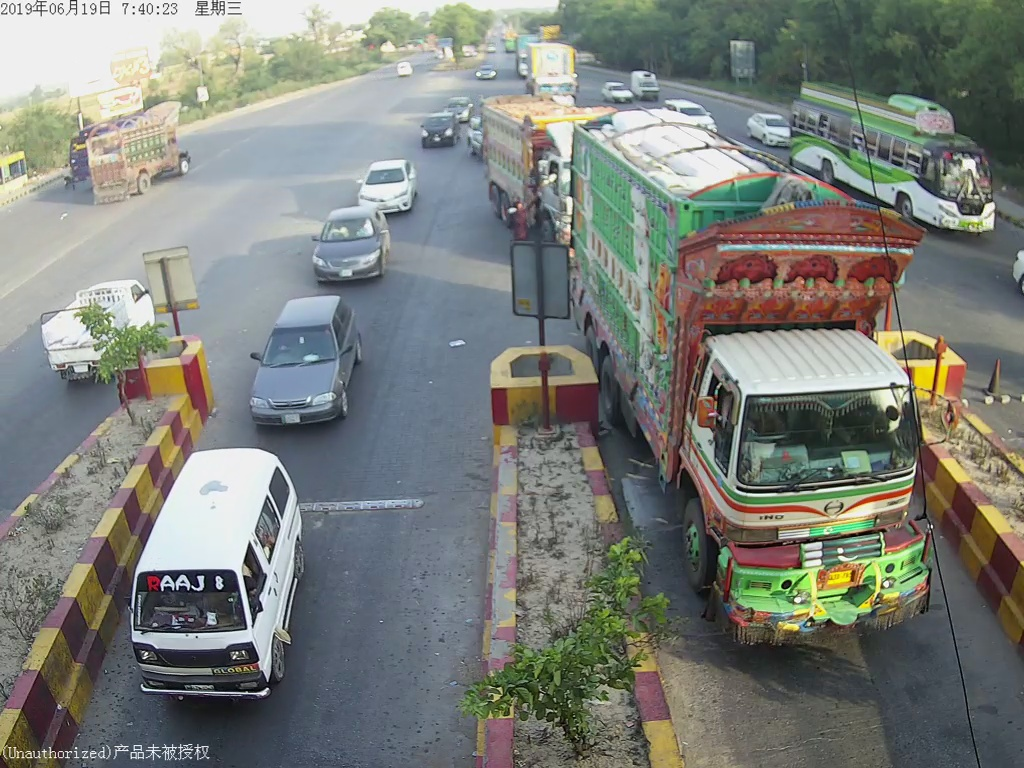Cat-1: (136, 454, 306, 710), (251, 295, 367, 425), (312, 200, 389, 286), (355, 154, 412, 210), (419, 113, 463, 152)
Cat-4: (558, 114, 923, 647)
